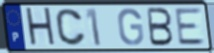1: (85, 7, 102, 48)
B: (146, 6, 175, 47)
C: (54, 8, 88, 47)
E: (173, 7, 207, 47)
G: (116, 7, 145, 47)
H: (24, 6, 58, 49)
